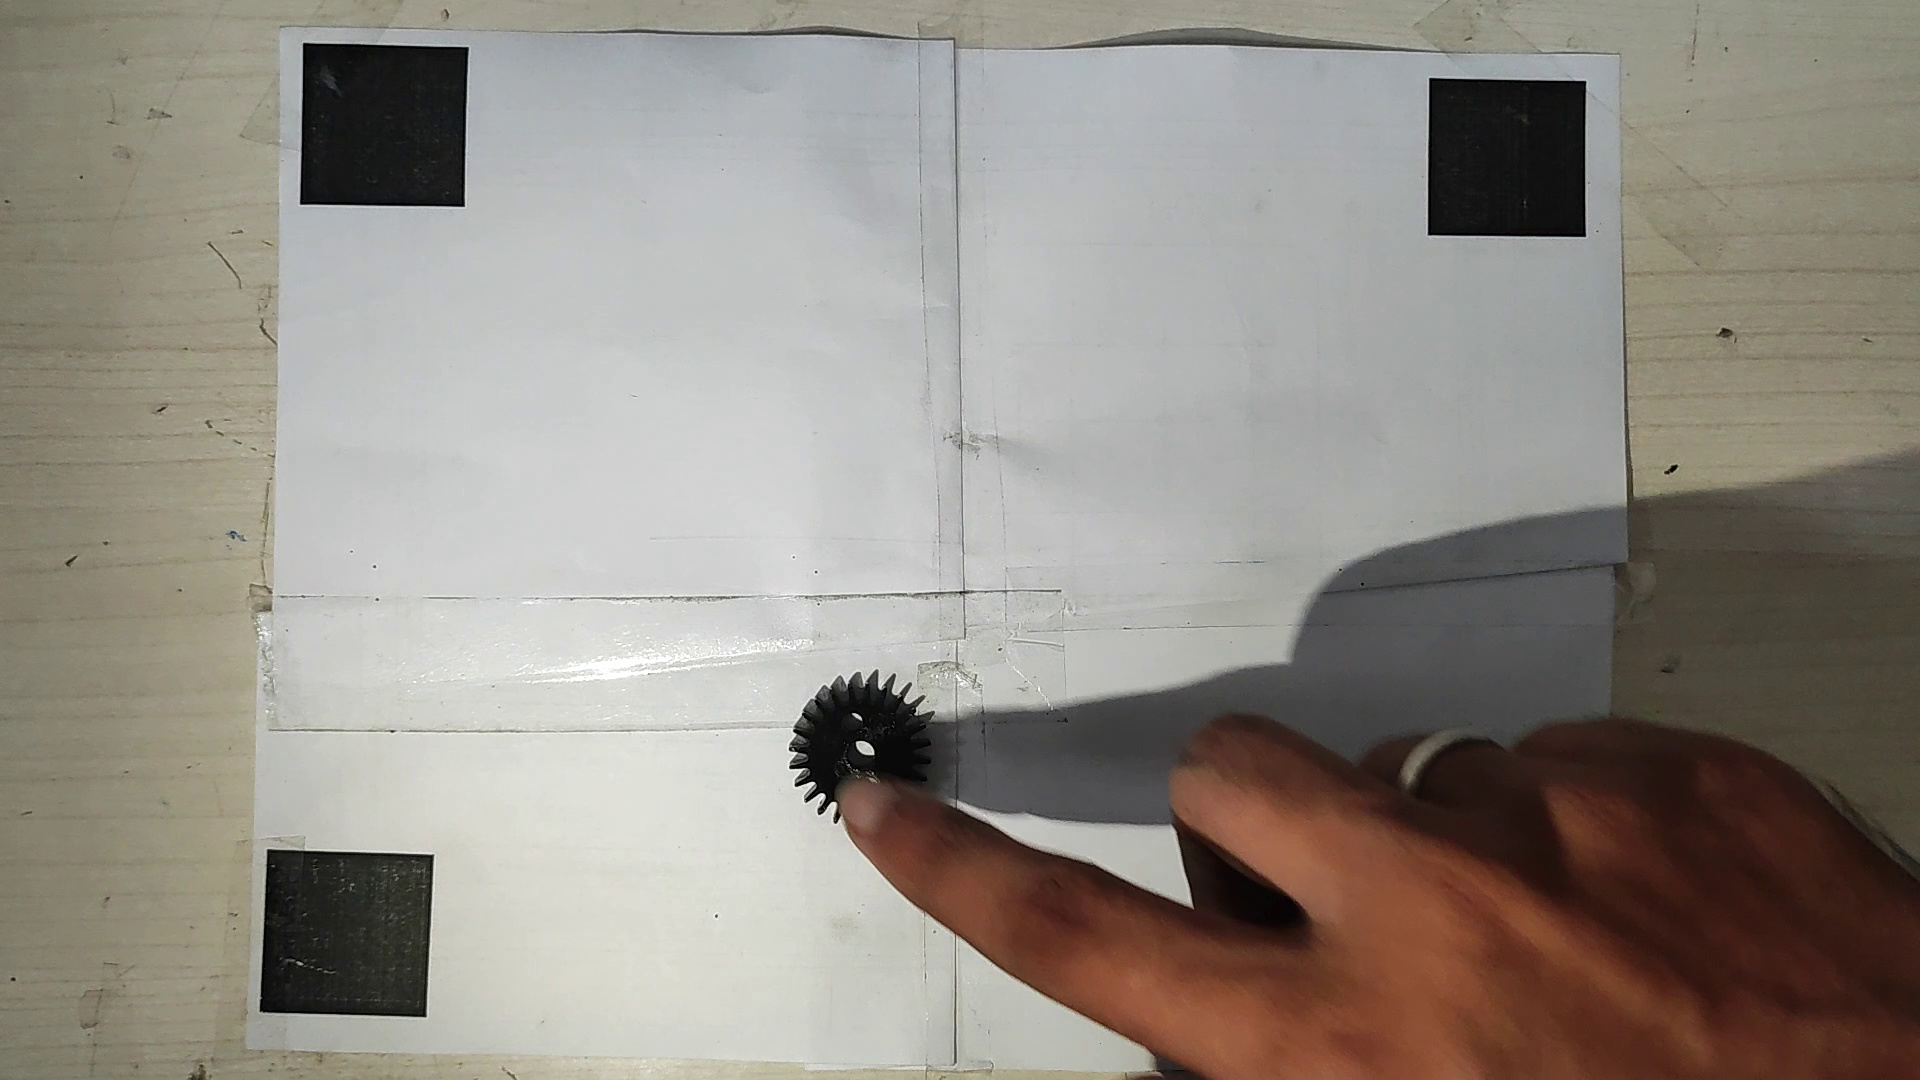Gear: (785, 668, 940, 827)
